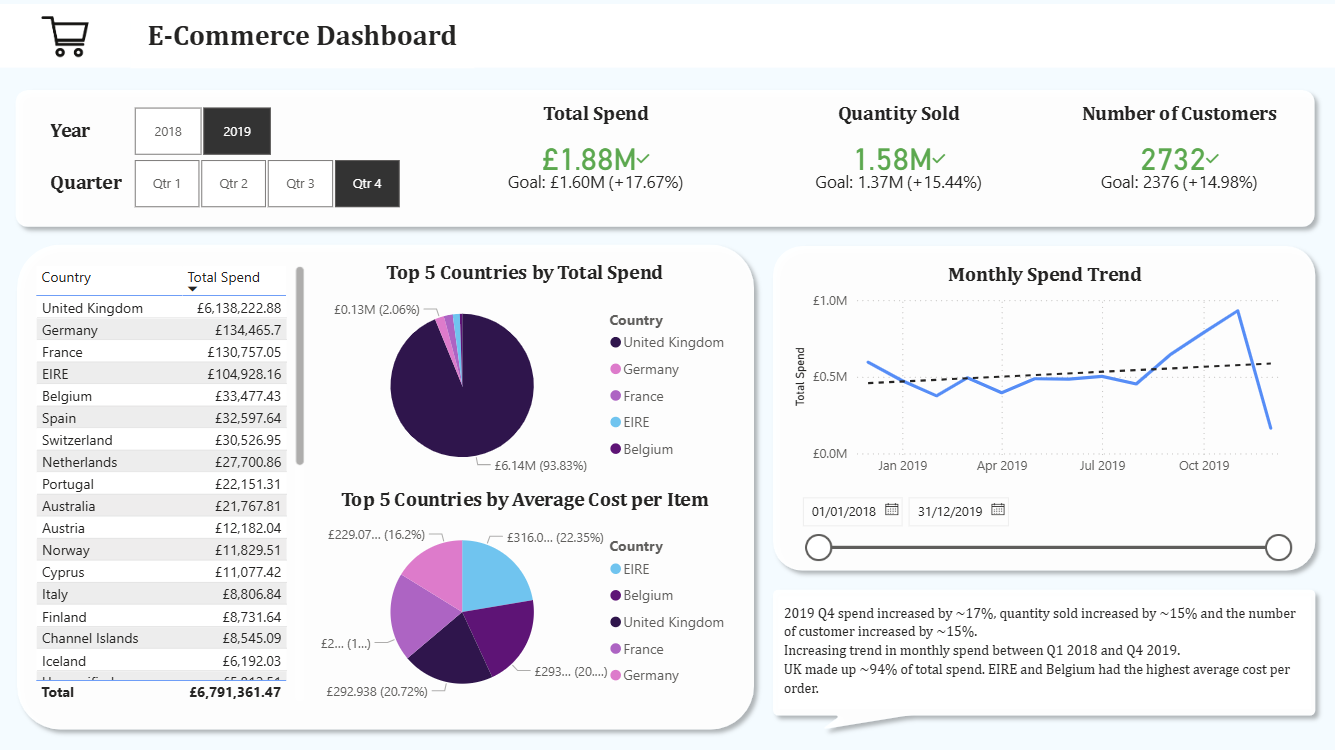

The page's visual inventory and layout, read from the dashboard file:
{"tool":"powerbi","page":{"name":"Page 1","canvas":[1280,720],"ordinal":0},"visuals":[{"type":"shape","box":[729.8,227.1,534.5,327.1],"z":0},{"type":"shape","box":[9.6,226.1,720,480],"z":1000},{"type":"tableEx","fields":{"Values":["Sales Transaction v 4a.Country","Sum(Sales Transaction v 4a.Price)"]},"box":[31.3,250.7,266.5,425.2],"z":1000},{"type":"shape","box":[0,5.3,1279.5,60.6],"z":2000},{"type":"pieChart","title":"Top 5 Countries by Total Spend","fields":{"Category":["Sales Transaction v 4a.Country"],"Y":["Sum(Sales Transaction v 4a.Price)"]},"box":[297.8,250.7,410.1,215.4],"z":2000},{"type":"textbox","box":[127.2,15,327.1,53],"z":3000},{"type":"pieChart","title":"Top 5 Countries by Average Cost per Order","fields":{"Category":["Sales Transaction v 4a.Country"],"Y":["_Measures.Price over Quantity"]},"box":[297.8,466.1,410.1,215.4],"z":3000},{"type":"lineChart","title":"Monthly Spend Trend","fields":{"Category":["Calendar.Date.Variation.Date Hierarchy.Year"],"Y":["Sum(Sales Transaction v 4a.Price)"]},"box":[754.1,251.4,487.6,212],"z":4000},{"type":"slicer","fields":{"Values":["Calendar.Date"]},"box":[754.1,466.4,487.6,72.7],"z":5000},{"type":"shape","box":[9.1,78.7,1255.3,148.4],"z":7000},{"type":"kpi","title":"Total Spend","fields":{"TrendLine":["Calendar.Date"],"Indicator":["_Measures.Quarter Spend"],"Goal":["_Measures.Last Quarter Spend"]},"box":[48.6,98.6,231.4,108.6],"z":8000},{"type":"kpi","title":"Quantity Sold","fields":{"TrendLine":["Calendar.Date"],"Indicator":["_Measures.Quarter Quantity"],"Goal":["_Measures.Last Quarter Quantity"]},"box":[280,98.6,232.9,108.6],"z":9000},{"type":"slicer","fields":{"Values":["Calendar.Date.Variation.Date Hierarchy.Year"]},"box":[632.9,8.6,148.6,50],"z":10000},{"type":"textbox","box":[591.4,15.7,64.3,35.7],"z":10000},{"type":"slicer","fields":{"Values":["Calendar.Date.Variation.Date Hierarchy.Quarter"]},"box":[928.6,11.4,292.9,48.6],"z":11000},{"type":"textbox","box":[845.7,17.1,101.4,35.7],"z":11000},{"type":"kpi","title":"Number of Customers","fields":{"TrendLine":["Calendar.Date"],"Goal":["_Measures.Last Quarter Num Customers"],"Indicator":["_Measures.Quarter Num of Cutomers"]},"box":[521.4,98.6,231.4,108.6],"z":12000},{"type":"image","box":[33.3,16.7,63.6,39.4],"z":13000},{"type":"shape","box":[729.8,554.2,534.5,151.4],"z":14000},{"type":"textbox","box":[745,569.3,507.3,107.5],"z":15001},{"type":"kpi","title":"Number of Orders","fields":{"TrendLine":["Calendar.Date"],"Goal":["_Measures.Last Quarter Orders"],"Indicator":["_Measures.Quarter Orders"]},"box":[752.9,98.6,231.4,108.6],"z":15002},{"type":"kpi","title":"Unique Products Sold","fields":{"TrendLine":["Calendar.Date"],"Goal":["_Measures.Last Quarter Product Count"],"Indicator":["_Measures.Quarter Product Count"]},"box":[990,98.6,231.4,108.6],"z":15003}]}

Visuals, with their boxes in screenshot pixels (x1, y1, x2, y2), scaled from the page's 1280x720 canvas onto the 1335x750 screenshot:
shape: {"left": 761, "top": 237, "right": 1319, "bottom": 577}
shape: {"left": 10, "top": 236, "right": 761, "bottom": 736}
tableEx - Sales Transaction v 4a.Country x Sum(Sales Transaction v 4a.Price): {"left": 33, "top": 261, "right": 311, "bottom": 704}
shape: {"left": 0, "top": 6, "right": 1334, "bottom": 69}
"Top 5 Countries by Total Spend" pieChart: {"left": 311, "top": 261, "right": 738, "bottom": 486}
textbox: {"left": 133, "top": 16, "right": 474, "bottom": 71}
"Top 5 Countries by Average Cost per Order" pieChart: {"left": 311, "top": 486, "right": 738, "bottom": 710}
"Monthly Spend Trend" lineChart: {"left": 787, "top": 262, "right": 1295, "bottom": 483}
slicer - Calendar.Date: {"left": 787, "top": 486, "right": 1295, "bottom": 562}
shape: {"left": 9, "top": 82, "right": 1319, "bottom": 237}
"Total Spend" kpi: {"left": 51, "top": 103, "right": 292, "bottom": 216}
"Quantity Sold" kpi: {"left": 292, "top": 103, "right": 535, "bottom": 216}
slicer - Calendar.Date.Variation.Date Hierarchy.Year: {"left": 660, "top": 9, "right": 815, "bottom": 61}
textbox: {"left": 617, "top": 16, "right": 684, "bottom": 54}
slicer - Calendar.Date.Variation.Date Hierarchy.Quarter: {"left": 969, "top": 12, "right": 1274, "bottom": 63}
textbox: {"left": 882, "top": 18, "right": 988, "bottom": 55}
"Number of Customers" kpi: {"left": 544, "top": 103, "right": 785, "bottom": 216}
image: {"left": 35, "top": 17, "right": 101, "bottom": 58}
shape: {"left": 761, "top": 577, "right": 1319, "bottom": 735}
textbox: {"left": 777, "top": 593, "right": 1306, "bottom": 705}
"Number of Orders" kpi: {"left": 785, "top": 103, "right": 1027, "bottom": 216}
"Unique Products Sold" kpi: {"left": 1033, "top": 103, "right": 1274, "bottom": 216}
